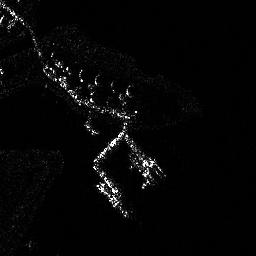ship: (95, 182, 119, 208), (128, 151, 149, 177)
